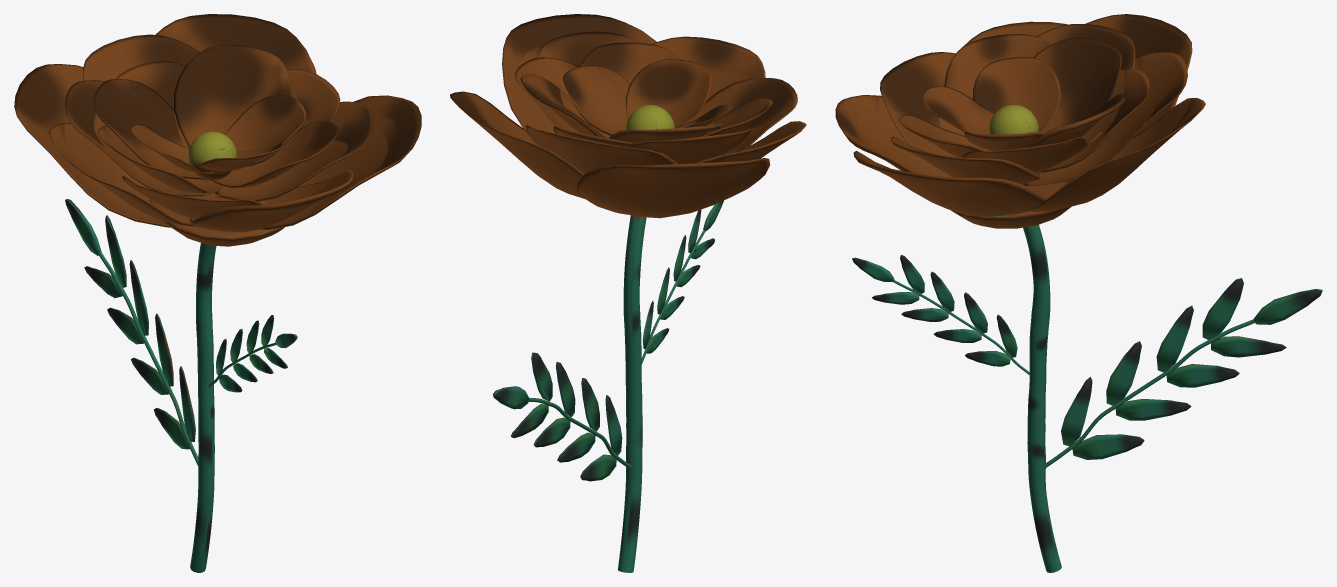
The model's file is Marigold_Dead.fbx.
3 renders of one model, left to right at view 1: azimuth 30°, elevation 25°; view 2: azimuth 150°, elevation 25°; view 3: azimuth 270°, elevation 25°, orthographic. The views are drawn at different scales.
Parts seen in each view (by area): view 1: Merigold_United.002; view 2: Merigold_United.002; view 3: Merigold_United.002.
Part boxes in pixels (left/top/right/bottom): Merigold_United.002: left=14, top=14, right=421, bottom=572; Merigold_United.002: left=450, top=14, right=806, bottom=572; Merigold_United.002: left=835, top=14, right=1322, bottom=572.
Bounding box in the file's own units: 34.23 × 50.24 × 44.57.
